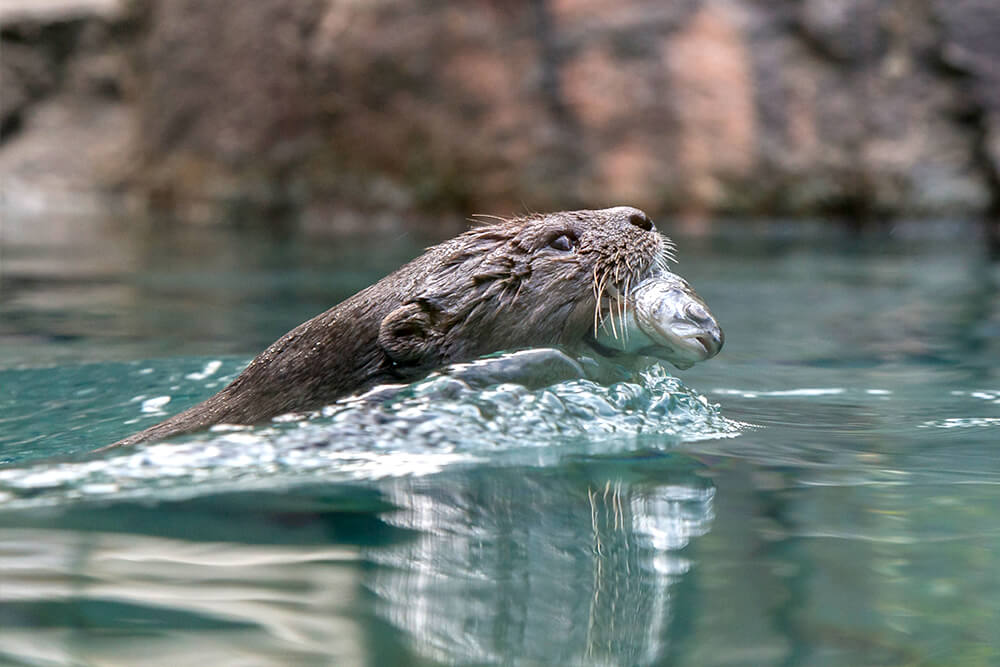otter: (126, 159, 766, 463)
